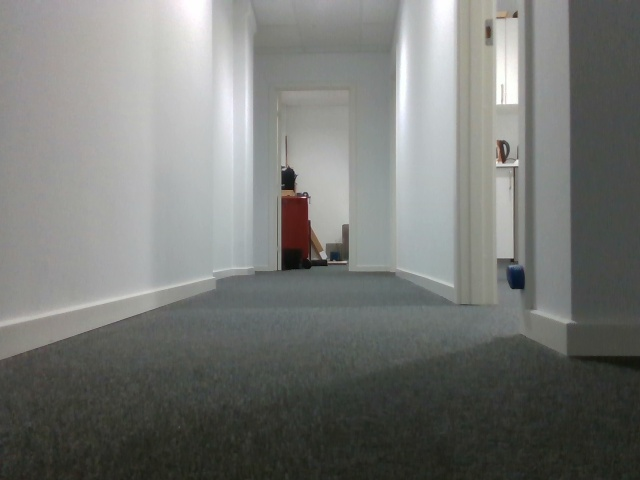alfa: (501, 263, 528, 292)
